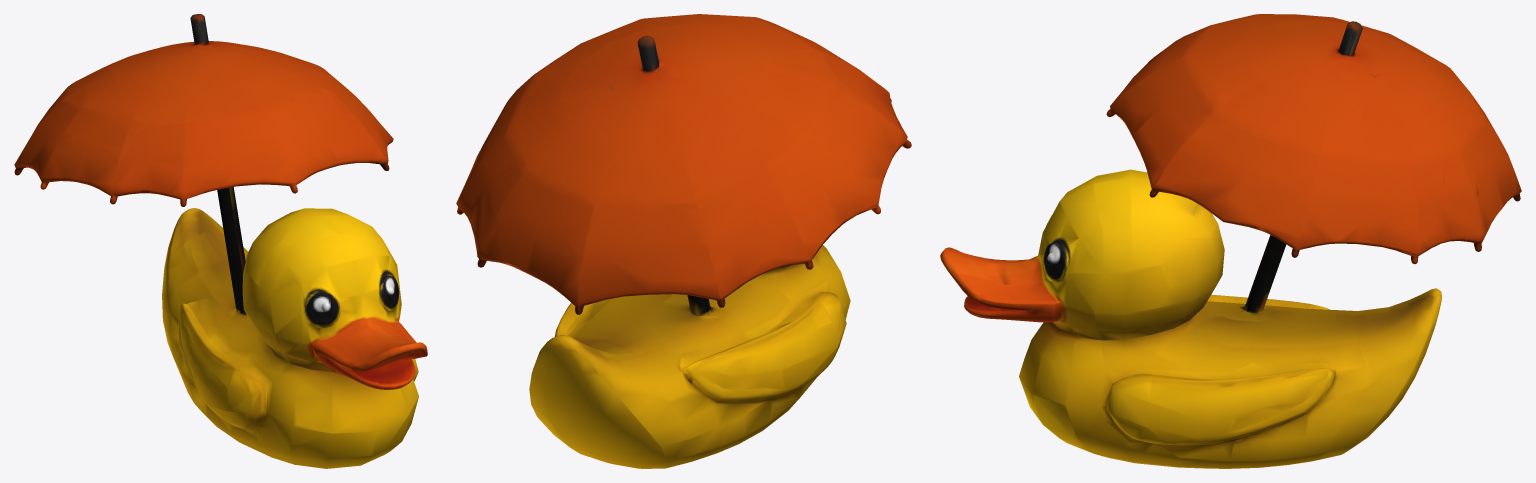
Rendered from duck.fbx.
The picture shows the model from 3 angles, left to right: view 1: azimuth 30°, elevation 25°; view 2: azimuth 150°, elevation 25°; view 3: azimuth 270°, elevation 25°; orthographic projection. The views are drawn at different scales.
Parts seen in each view (by area): view 1: node_0; view 2: node_0; view 3: node_0.
Boxes of the visible parts, bbox=[...] form: node_0: bbox=[14, 14, 427, 468]; node_0: bbox=[456, 14, 911, 468]; node_0: bbox=[940, 14, 1521, 468].
Bounding box in the file's own units: 0.4298 × 0.4539 × 0.6003.
Materials: 1 (1 with a texture image).
